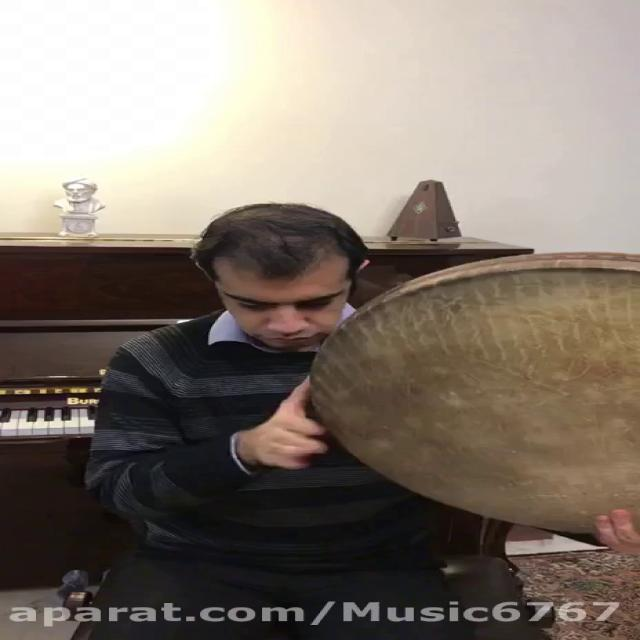Daf: (309, 252, 640, 553)
